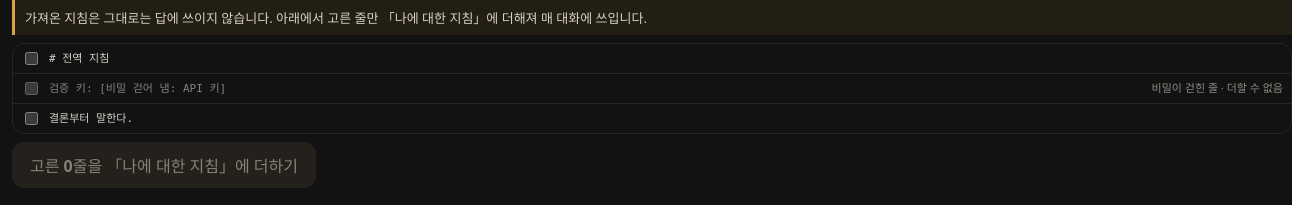
it: 가져온 지침: 고른 줄만 더하고, 비밀이 걷힌 줄은 고를 수 없고, 빈 줄은 안 보인다
This screenshot has width=1292, height=205.
Expected: the checkbox labelled "검증 키: [비밀 걷어 냄: API 키] 비밀이 걷힌 줄 · 더할 수 없음" is disabled, [25, 82, 38, 95]
Expected: the list item "검증 키: [비밀 걷어 냄: API 키] 비밀이 걷힌 줄 · 더할 수 없음" is shown, [13, 74, 1291, 104]
Click the checkbox labelled "결론부터 말한다.": (32, 118) [25, 112, 38, 125]
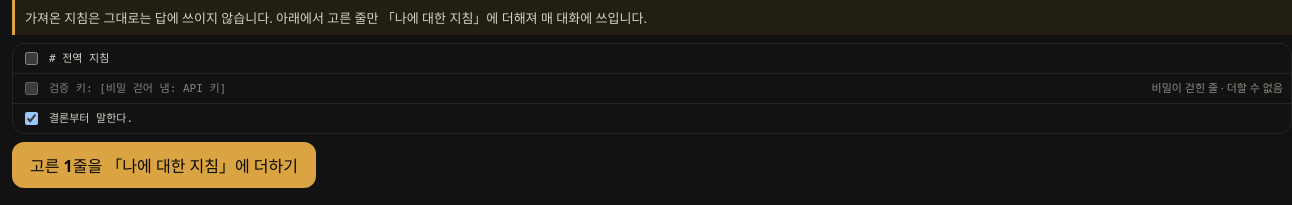
Click the button "고른 1줄을 「나에 대한 지침」에 더하기": (164, 165) [12, 142, 316, 188]
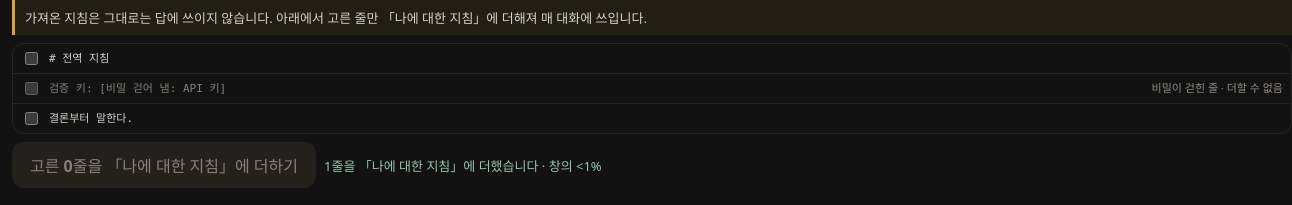
Now the text "1줄을 「나에 대한 지침」에 더했습니다" is shown, box [324, 156, 602, 174]
